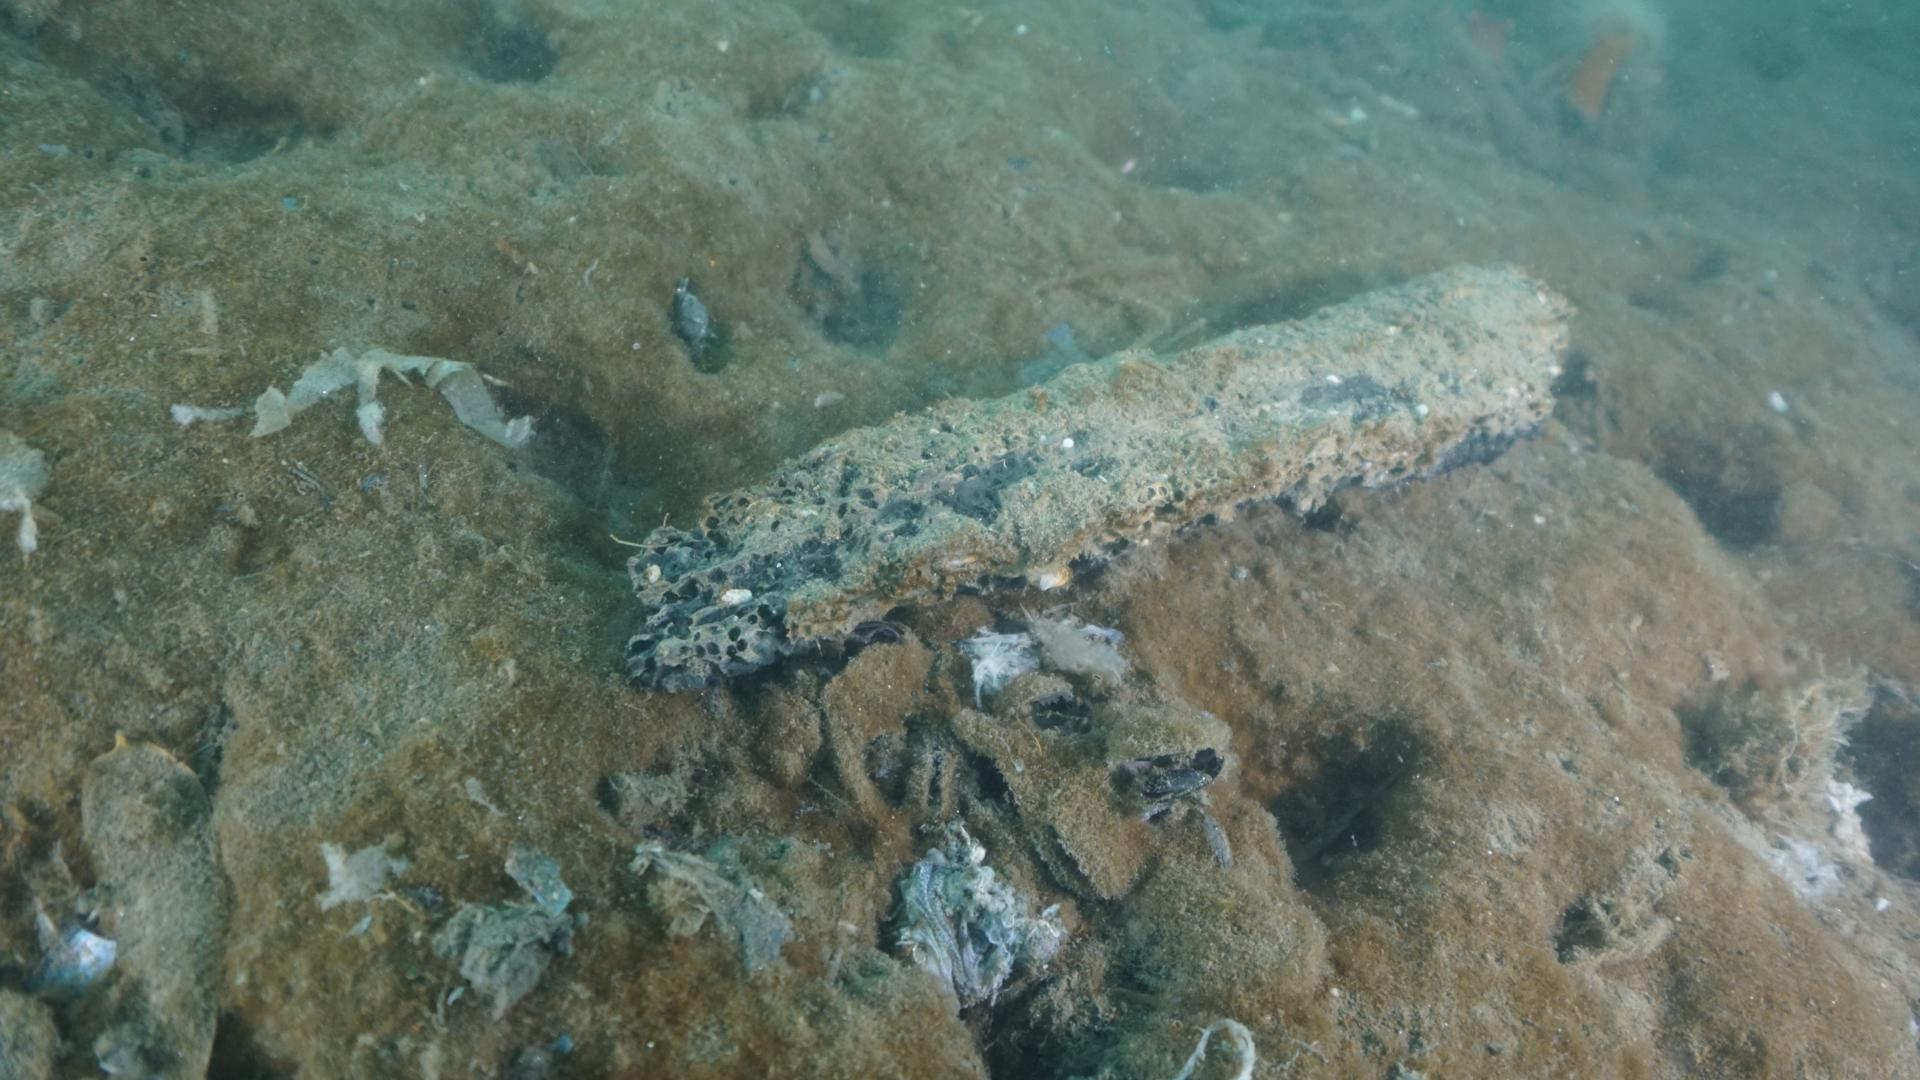wood: (612, 260, 1576, 696)
